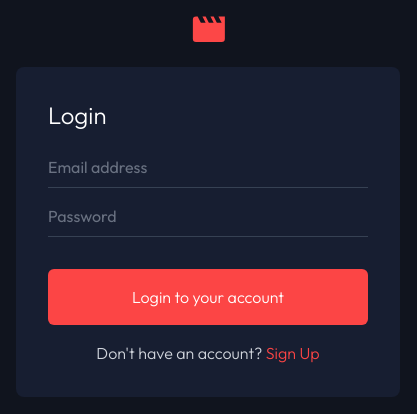
Test case: Login › shows error for bad email
The width and height of the screenshot is (417, 414).
Type "invalid-email" into the field labelled "Email address". click: (208,170)
box: x1=48 y1=154 x2=368 y2=186
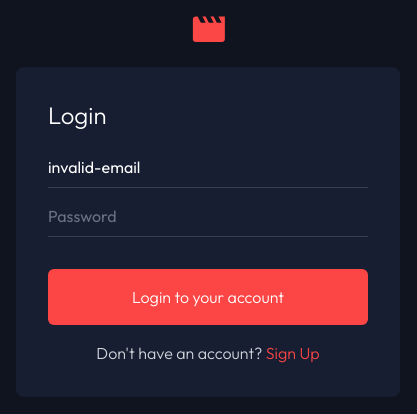
Click the button "Login to your account". click: (208,296)
box: x1=48 y1=268 x2=368 y2=324
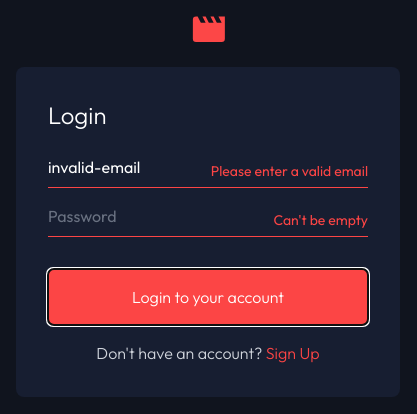
Expected: the text "Please enter a valid email" is shown, x1=211 y1=160 x2=368 y2=180
